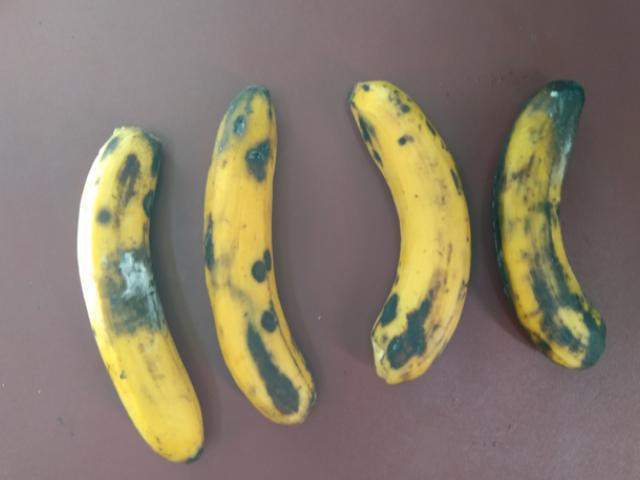overripe: (194, 70, 317, 446), (341, 66, 475, 391)
rotten: (469, 52, 627, 415), (60, 106, 206, 479)
